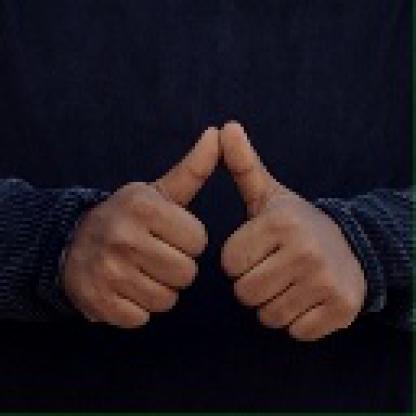A: (57, 108, 364, 338)
